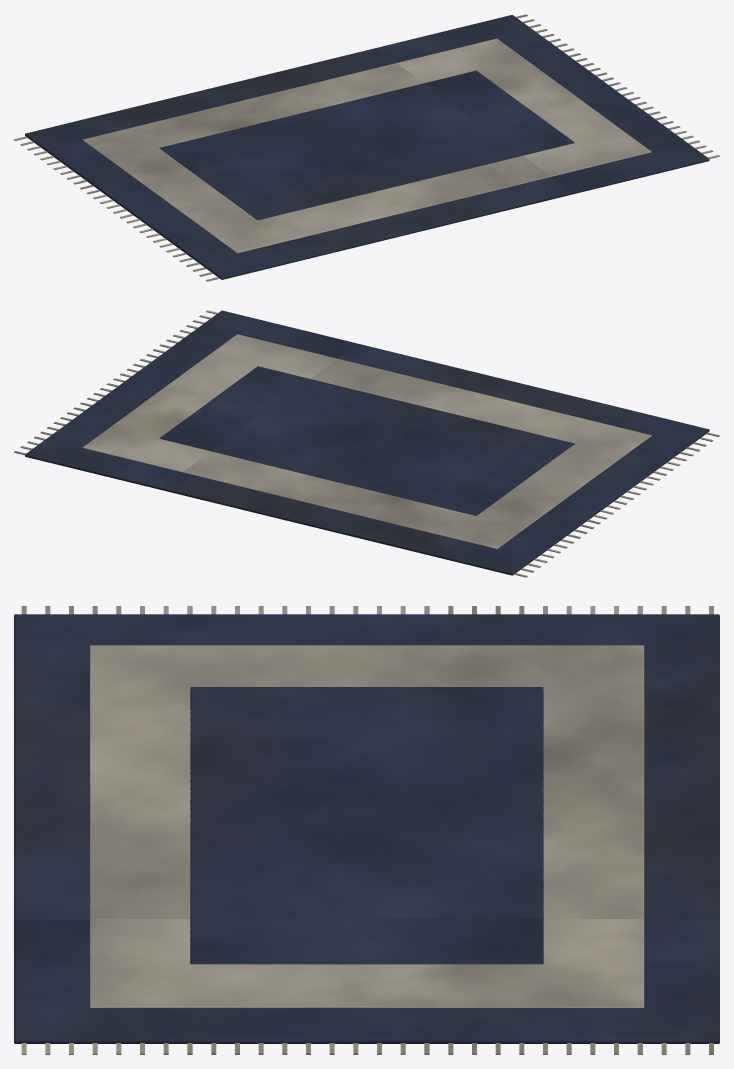
File: L07_floor_rug_v2.glb
3 views of the same model, one above another, from view 1: azimuth 30°, elevation 25°; view 2: azimuth 150°, elevation 25°; view 3: azimuth 270°, elevation 25° (orthographic). The views are drawn at different scales.
Parts seen in each view (by area): view 1: L07_floor_rug_v2; view 2: L07_floor_rug_v2; view 3: L07_floor_rug_v2.
Boxes of the visible parts, box(x1,y1,x2,y2) form: L07_floor_rug_v2: box(14, 14, 719, 281); L07_floor_rug_v2: box(14, 310, 719, 577); L07_floor_rug_v2: box(14, 606, 719, 1054).
Size of the model in its own units: 2 by 0.0133 by 1.33.
3 materials, 3 textured.
